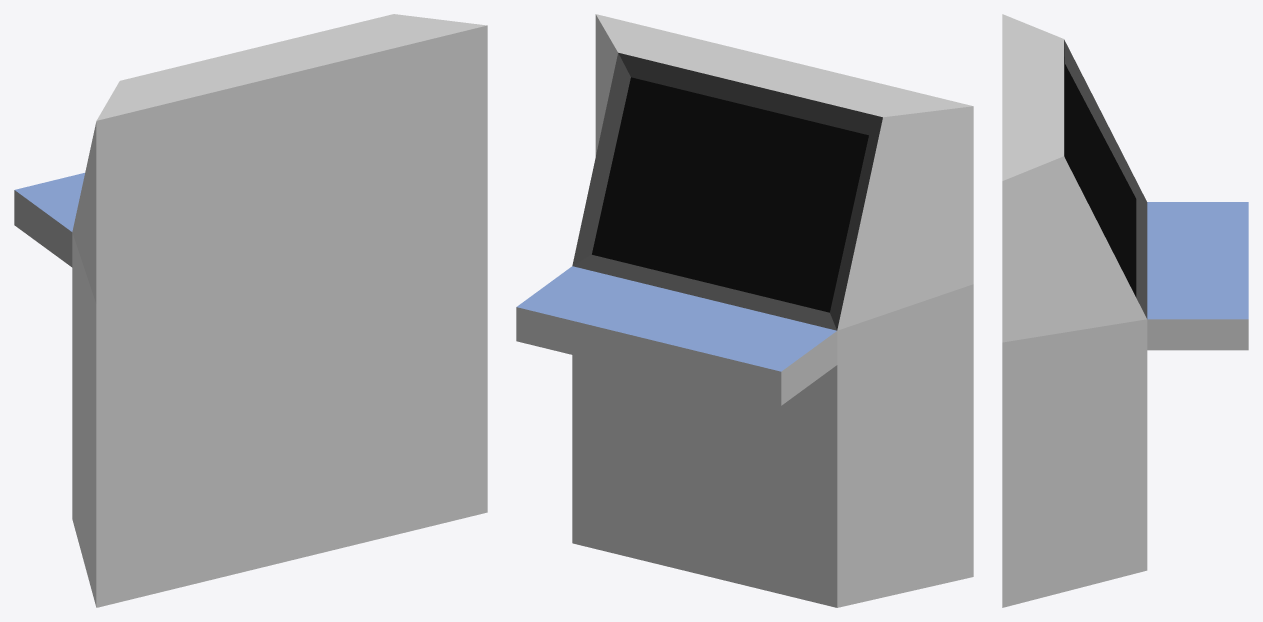
Rendered from ComputerBody.fbx.
3 renders of one model, left to right at view 1: azimuth 30°, elevation 25°; view 2: azimuth 150°, elevation 25°; view 3: azimuth 270°, elevation 25°, orthographic. The views are drawn at different scales.
Visible parts, largest first — view 1: Computer; view 2: Computer; view 3: Computer.
Boxes of the visible parts, <box> form: Computer: <box>14,14,487,607</box>; Computer: <box>516,14,973,607</box>; Computer: <box>1002,14,1248,607</box>.
Size of the model in its own units: 175 by 209 by 109.
